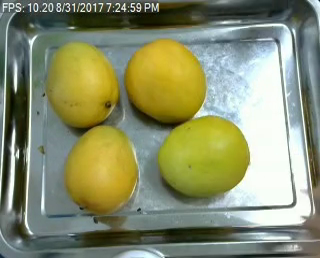Mango: (159, 114, 251, 196), (123, 39, 207, 124), (62, 125, 141, 212), (45, 42, 117, 126)
